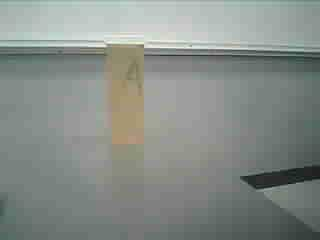Bottle A: (96, 27, 157, 159)
